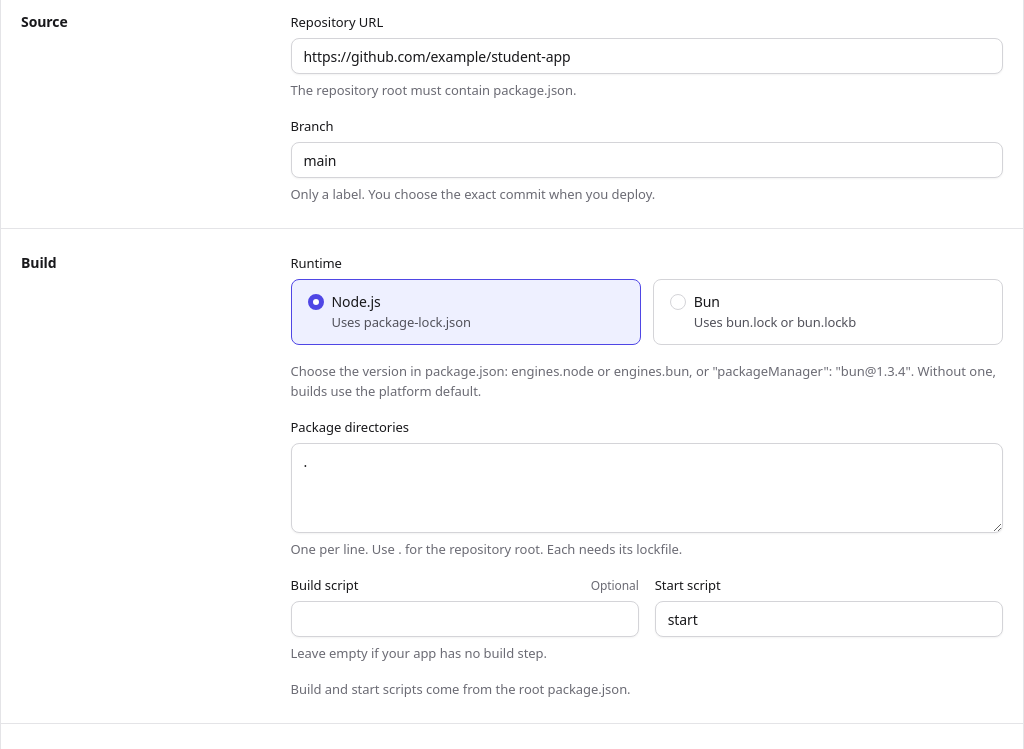
it: owner configuration › renders labeled editable controls and saves independently of deploy
Expected: the text "Build and start scripts come from the root package.json." is shown, [290, 680, 631, 698]
Expected: the text "The repository root must contain package.json." is shown, [290, 81, 576, 99]
Click the radio button labelled "Bun Uses bun.lock or bun.lockb" at x=678, y=302, box [670, 294, 686, 310]
(page scrolled)
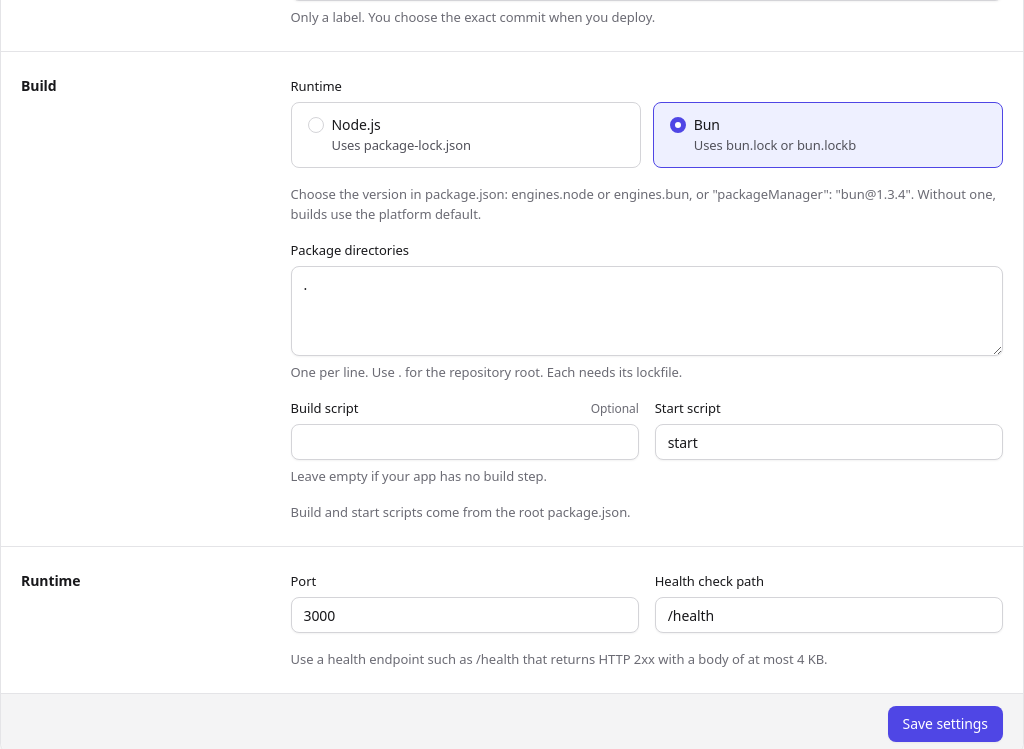
Replace the text in the number field labelled "Port" with "8080" at x=465, y=615, box [290, 597, 639, 633]
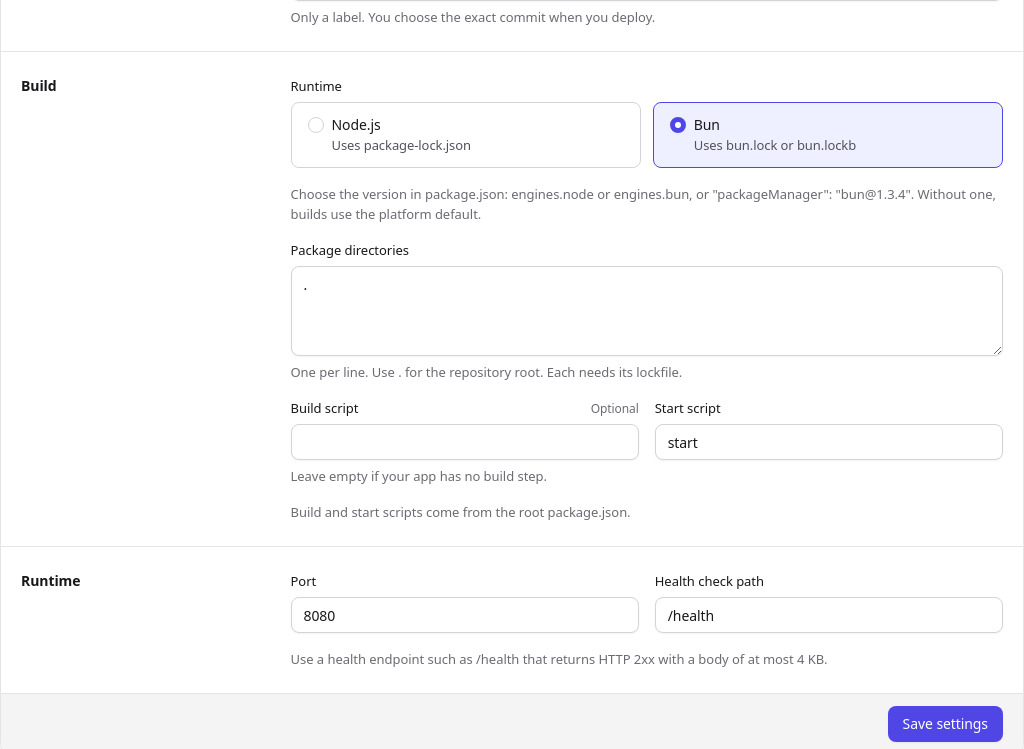
Click the button "Save settings" at x=945, y=724, box [888, 706, 1003, 742]
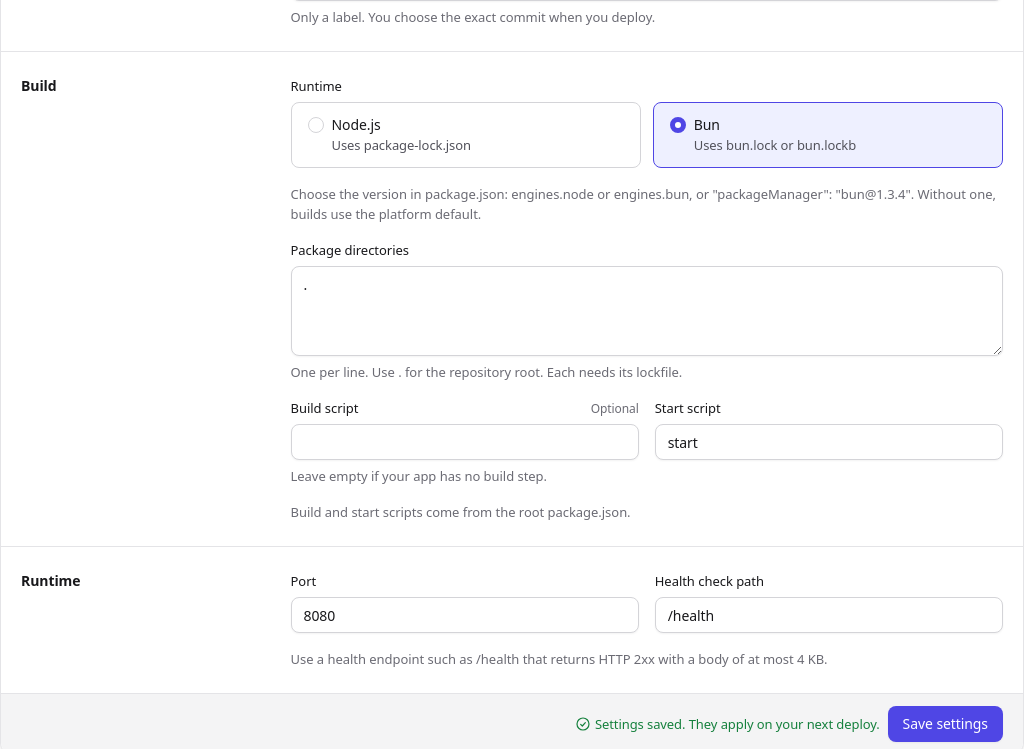
Expected: the message shows "Settings saved", [595, 715, 880, 733]
